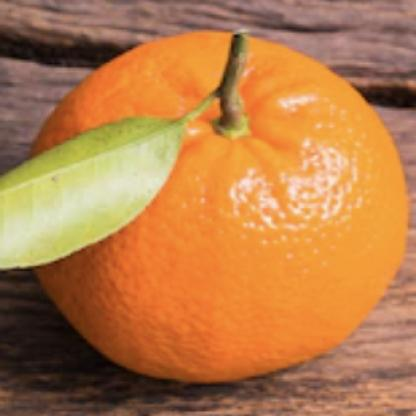fresh: (22, 33, 414, 377)
